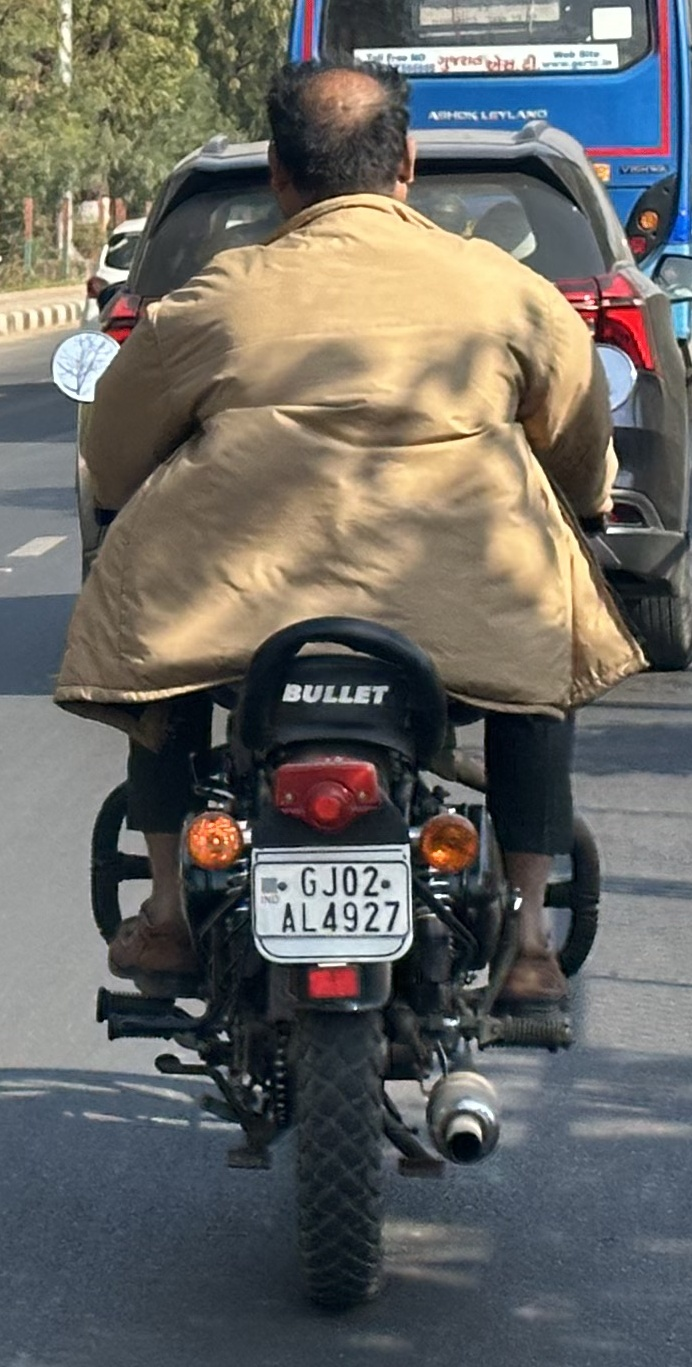BikeWithRider: (41, 53, 661, 1312)
NoHelmet: (260, 53, 418, 231)
